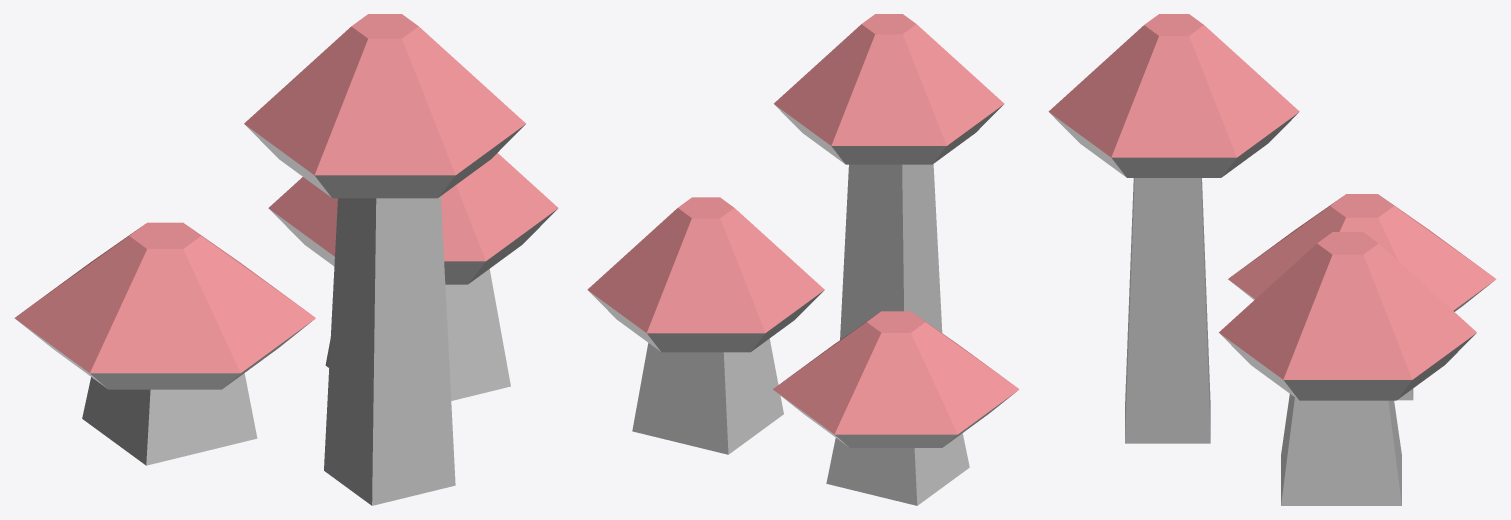
The model's file is mushroom_redGroup.gltf.
3 renders of one model, left to right at view 1: azimuth 30°, elevation 25°; view 2: azimuth 150°, elevation 25°; view 3: azimuth 270°, elevation 25°, orthographic. The views are drawn at different scales.
Visible parts, largest first — view 1: mushroom_redGroup; view 2: mushroom_redGroup; view 3: mushroom_redGroup.
Boxes of the visible parts, box(x1,y1,x2,y2) form: mushroom_redGroup: box(14, 14, 558, 505); mushroom_redGroup: box(587, 14, 1019, 505); mushroom_redGroup: box(1048, 14, 1496, 505).
Bounding box in the file's own units: 0.2696 × 0.2505 × 0.2542.
